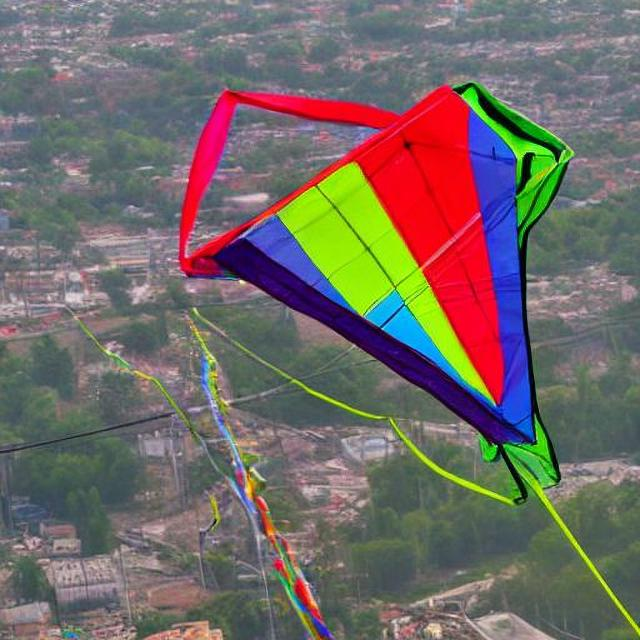floating object: (179, 78, 575, 502), (110, 272, 334, 630)
